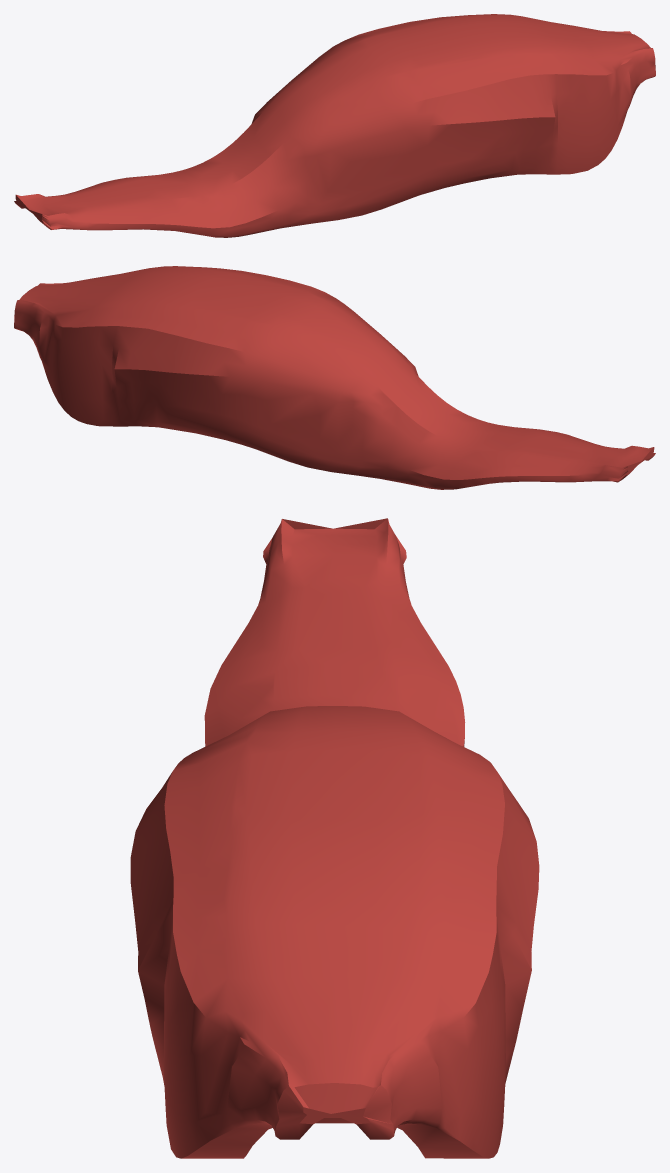
The model's file is adventure_3_lod2.glb.
The picture shows the model from 3 angles, top to bottom: view 1: azimuth 30°, elevation 25°; view 2: azimuth 150°, elevation 25°; view 3: azimuth 270°, elevation 25°; orthographic projection. The views are drawn at different scales.
Visible parts, largest first — view 1: adventure_3_lod2; view 2: adventure_3_lod2; view 3: adventure_3_lod2.
Part boxes in pixels (x1,y1,x2,y2): adventure_3_lod2: (14, 14, 655, 237); adventure_3_lod2: (14, 266, 655, 489); adventure_3_lod2: (130, 518, 539, 1158).
Bounding box in the file's own units: 1.65 × 0.327 × 0.4738.
